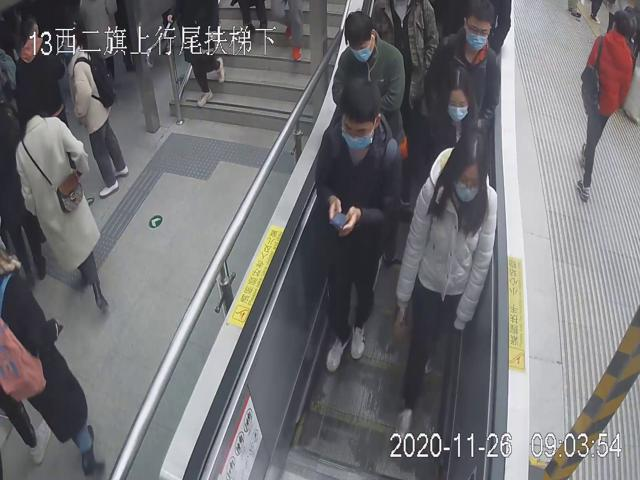person: (393, 130, 498, 432), (314, 71, 401, 372), (11, 84, 108, 314), (572, 8, 635, 200), (56, 31, 129, 196), (418, 0, 503, 124), (414, 62, 493, 178), (329, 8, 403, 123)
